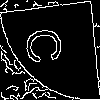C: (24, 25, 71, 66)
